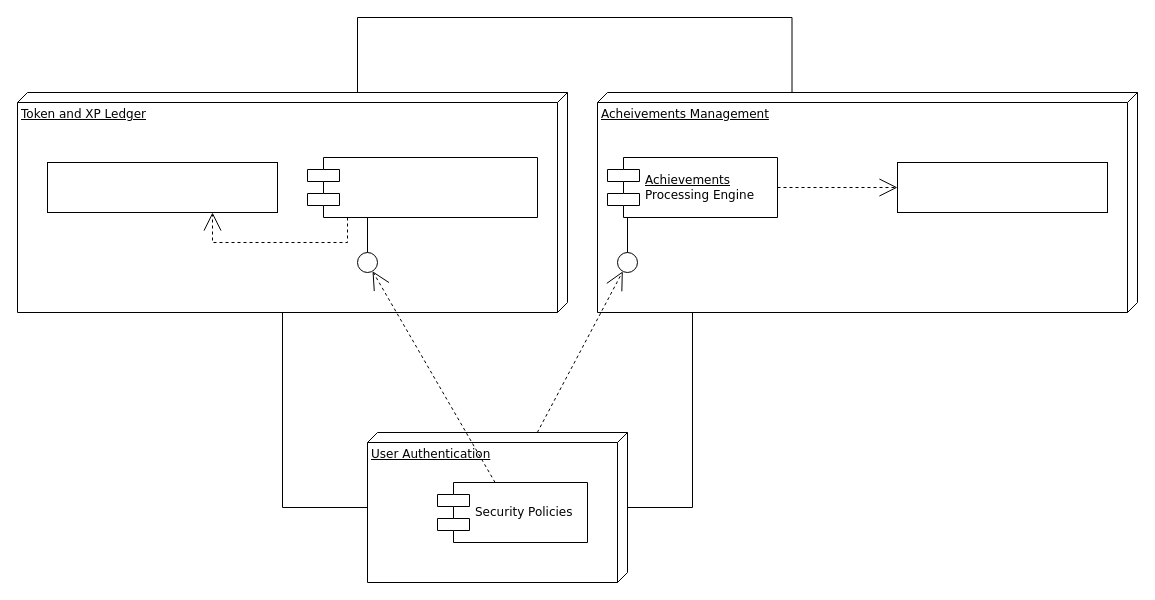
The diagram is 1155 pixels wide and 600 high, and some of its shapes have lost their labels. The centre of each missing label's shape, as x and y in pixels:
"Token/XP Calculation Engine" goes at pixel 422 187.
"« Acheivements API» AchievementsGatewayAPI" goes at pixel 1002 187.
"«Token/XP API» TokenXpServiceAPI" goes at pixel 162 187.
